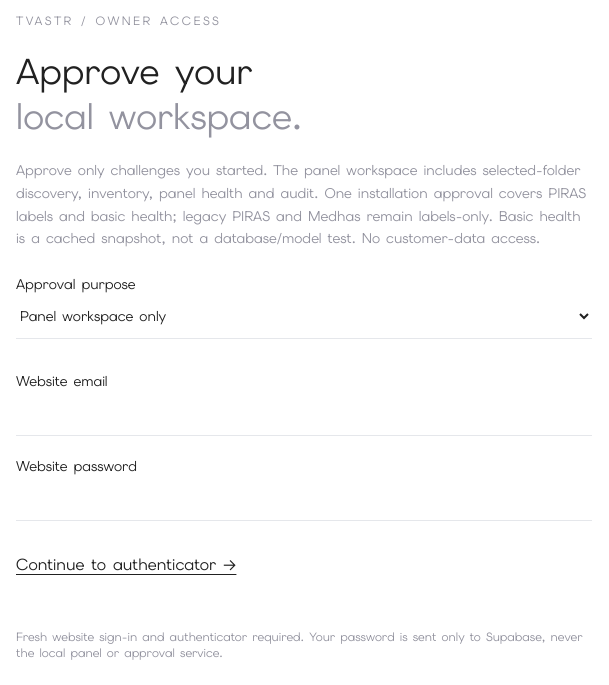
isolated owner approval › rejects malformed or overlong approval expiry
This screenshot has width=609, height=685.
In the field labelled "Website email": (304, 414) [16,391,592,436], type "owner@example.invalid"
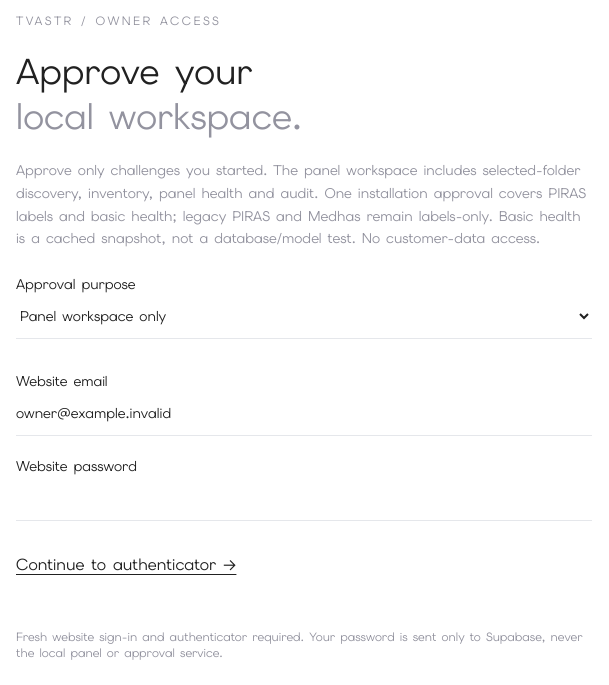
In the password field labelled "Website password": (304, 498) [16,476,592,521], type "synthetic-password-not-real"
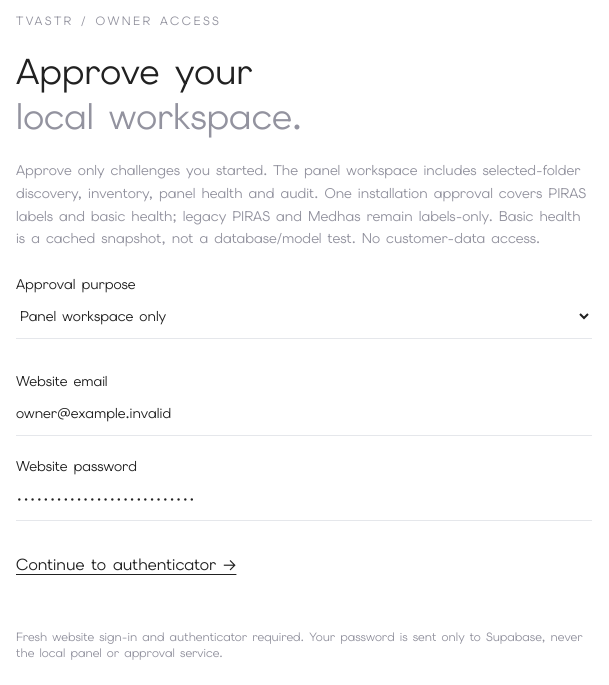
Click the button "Continue to authenticator →": (126, 565) [16,541,236,589]
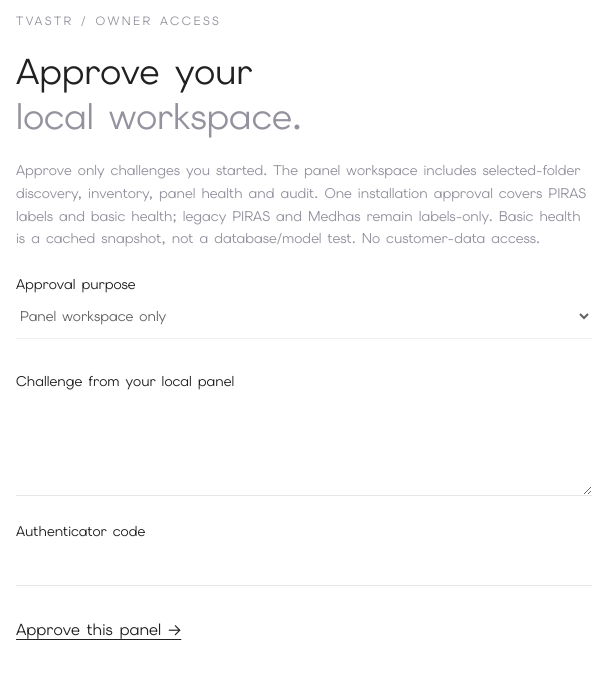
Check: the field labelled "Authenticator code" is shown, box [16,541,592,586]
In the text box labelled "Challenge from your local panel": (304, 444) [16,391,592,496], type "synthetic-challenge"
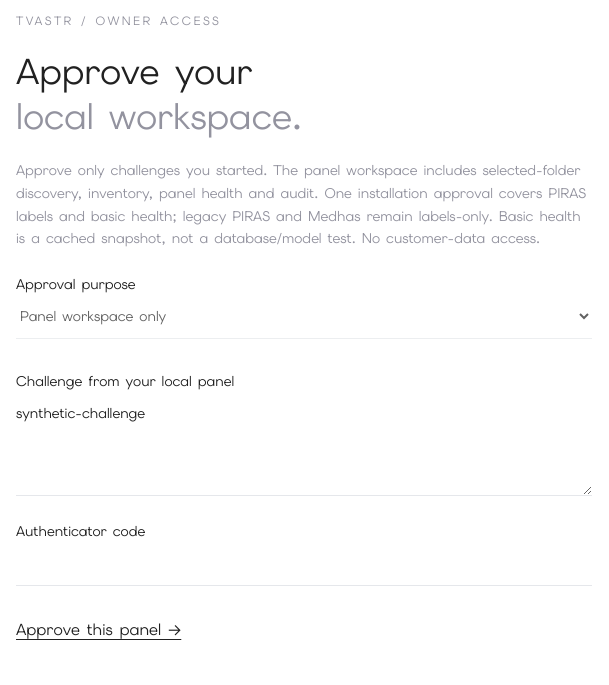
In the field labelled "Authenticator code": (304, 564) [16,541,592,586], type "123456"
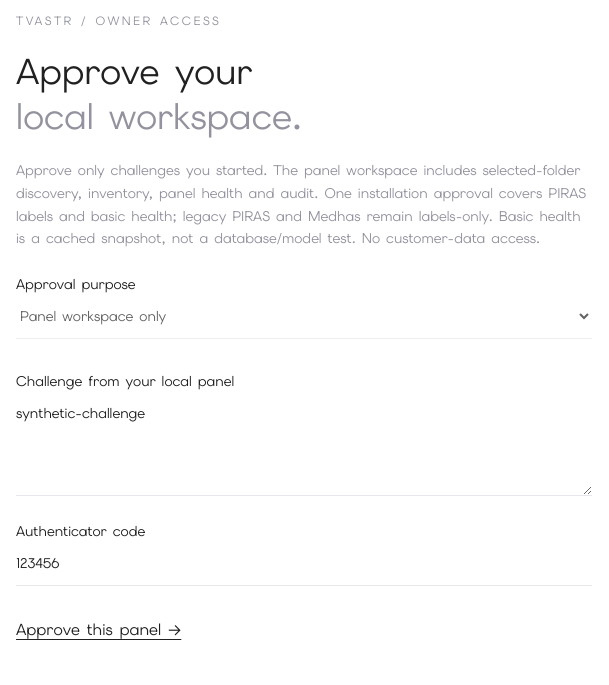
Click the button "Approve this panel →": (99, 630) [16,606,181,654]
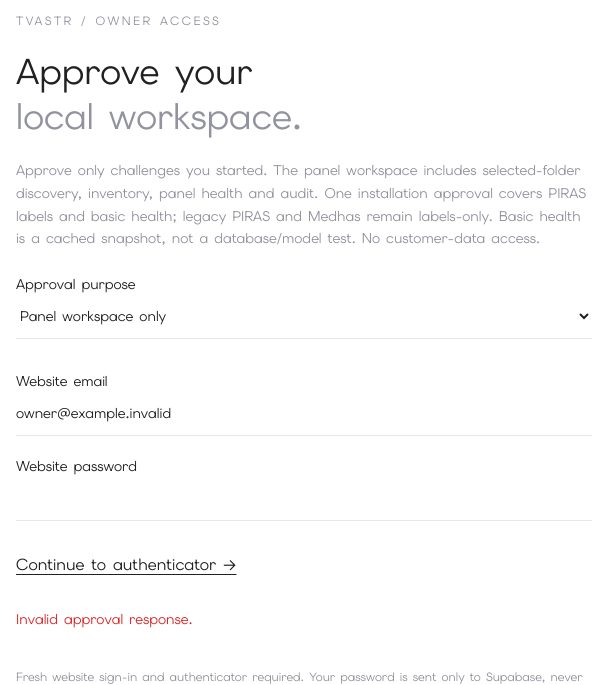
Check: the message shows "Invalid approval response", box [16,610,193,628]
